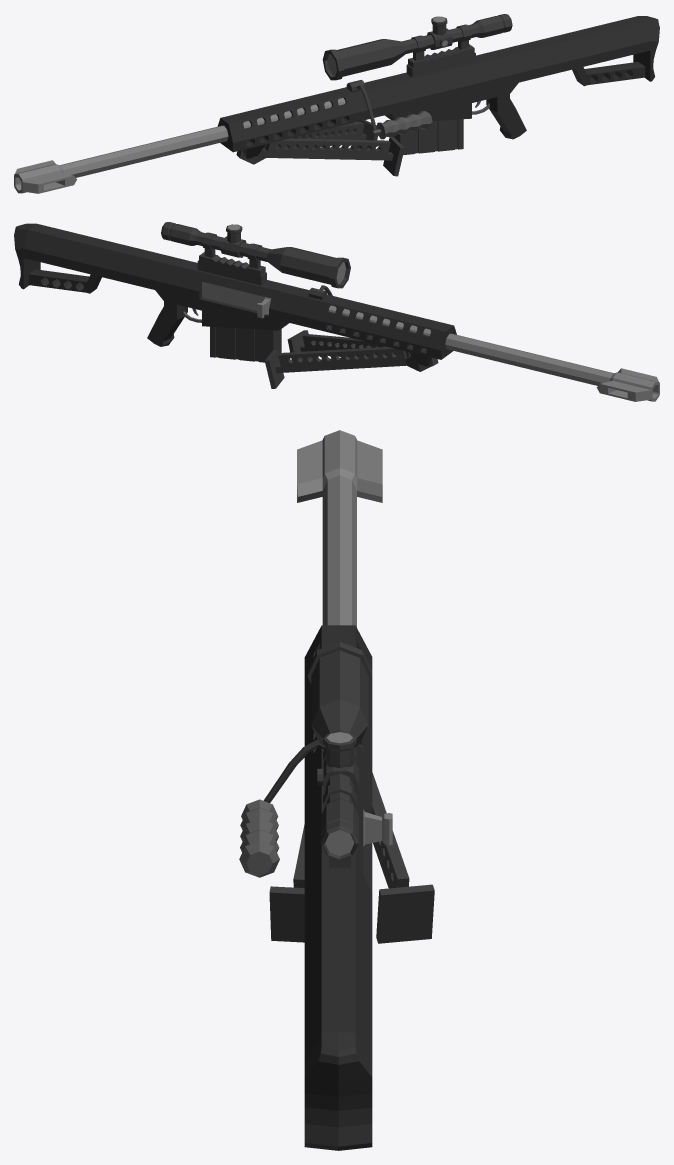
File: m82-barrett.glb
3 renders of one model, top to bottom at view 1: azimuth 30°, elevation 25°; view 2: azimuth 150°, elevation 25°; view 3: azimuth 270°, elevation 25°, orthographic. The views are drawn at different scales.
Parts seen in each view (by area): view 1: m82; view 2: m82; view 3: m82.
Boxes of the visible parts, x1,y1,x2,y2 form: m82: (14,14,659,193); m82: (14,222,659,401); m82: (239,430,434,1150).
Bounding box in the file's own units: 818 × 164 × 108.
Materials: 1 (1 with a texture image).
